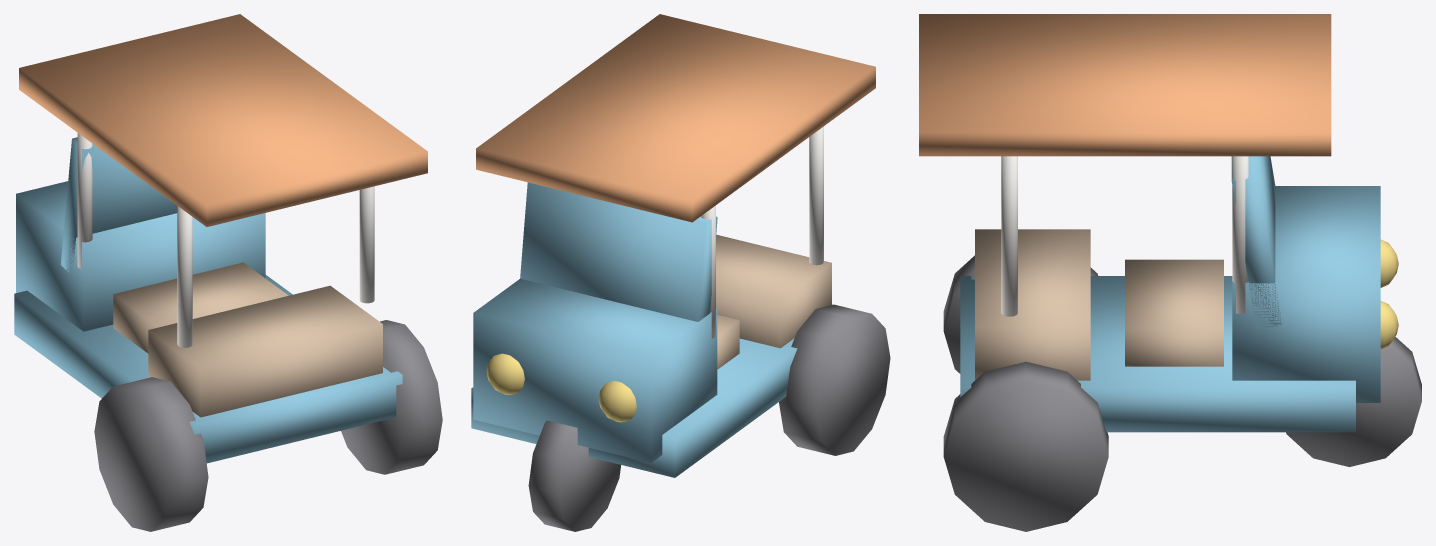
Rendered from bangkok_tuk_tuk.glb.
The picture shows the model from 3 angles, left to right: view 1: azimuth 30°, elevation 25°; view 2: azimuth 150°, elevation 25°; view 3: azimuth 270°, elevation 25°; orthographic projection. The views are drawn at different scales.
Visible parts, largest first — view 1: roof, seat_passenger, hood, chassis, wheel_bl, wheel_br, seat_driver, windshield_frame, pillar_rl, pillar_rr, pillar_fl; view 2: roof, hood, windshield_frame, wheel_bl, chassis, seat_passenger, wheel_f, pillar_rl, light_l, light_r, seat_driver, pillar_fl; view 3: roof, hood, wheel_br, chassis, seat_passenger, seat_driver, wheel_f, windshield_frame, pillar_rr, pillar_fr, wheel_bl, light_l (+1 smaller).
Boxes of the visible parts, x1,y1,x2,y2 form: roof: (19,14,427,226); seat_passenger: (148,285,382,417); hood: (16,181,265,331); chassis: (14,275,402,463); wheel_bl: (94,377,208,531); wheel_br: (341,320,442,474); seat_driver: (113,262,288,353); windshield_frame: (60,137,177,274); pillar_rl: (177,206,192,347); pillar_rr: (359,186,374,303); pillar_fl: (77,133,92,269); roof: (476,14,875,222); hood: (473,278,717,462); windshield_frame: (520,182,717,321); wheel_bl: (779,304,890,455); chassis: (471,304,832,477); seat_passenger: (716,234,831,348); wheel_f: (528,420,620,531); pillar_rl: (809,126,823,265); light_l: (598,381,636,422); light_r: (486,353,524,394); seat_driver: (717,315,739,369); pillar_fl: (701,205,715,338); roof: (919,14,1331,156); hood: (1232,186,1380,402); wheel_br: (943,361,1108,531); chassis: (960,276,1355,432); seat_passenger: (975,229,1090,380); seat_driver: (1125,259,1223,366); wheel_f: (1286,337,1421,466); windshield_frame: (1231,156,1281,328); pillar_rr: (1001,156,1017,316); pillar_fr: (1232,156,1248,313); wheel_bl: (943,255,1098,373); light_l: (1380,239,1398,287).
Bounding box in the file's own units: 1.05 × 1.29 × 1.52.
